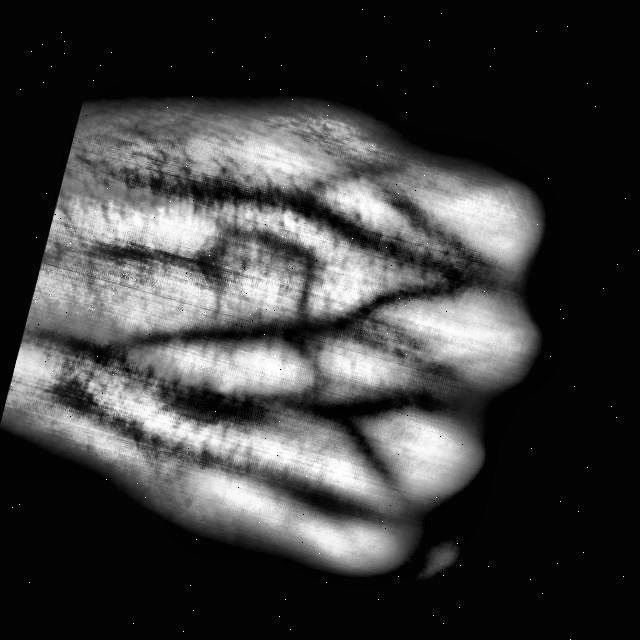Vein: (76, 394, 280, 495), (59, 339, 273, 425)
